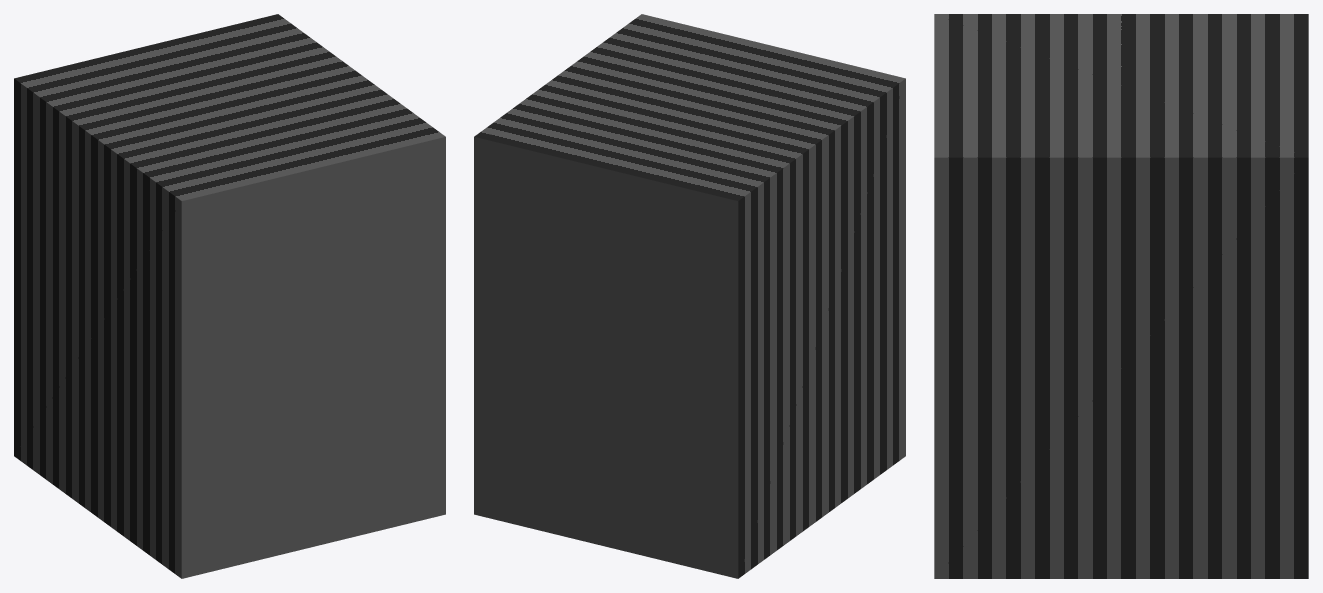
Rendered from middle.gltf.
3 renders of one model, left to right at view 1: azimuth 30°, elevation 25°; view 2: azimuth 150°, elevation 25°; view 3: azimuth 270°, elevation 25°, orthographic. The views are drawn at different scales.
Parts seen in each view (by area): view 1: cube; view 2: cube; view 3: cube.
Boxes of the visible parts, x1=… form: cube: x1=14, y1=14, x2=445, y2=578; cube: x1=474, y1=14, x2=905, y2=578; cube: x1=934, y1=14, x2=1308, y2=578.
Size of the model in its own units: 0.1875 by 0.2562 by 0.2062.
1 material, 1 textured.
